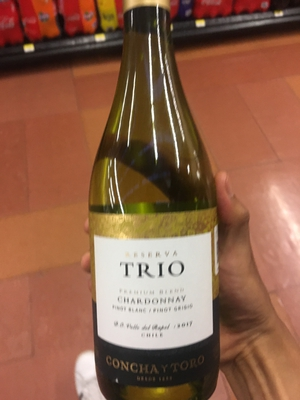trio chardonnay: (86, 18, 229, 388)
